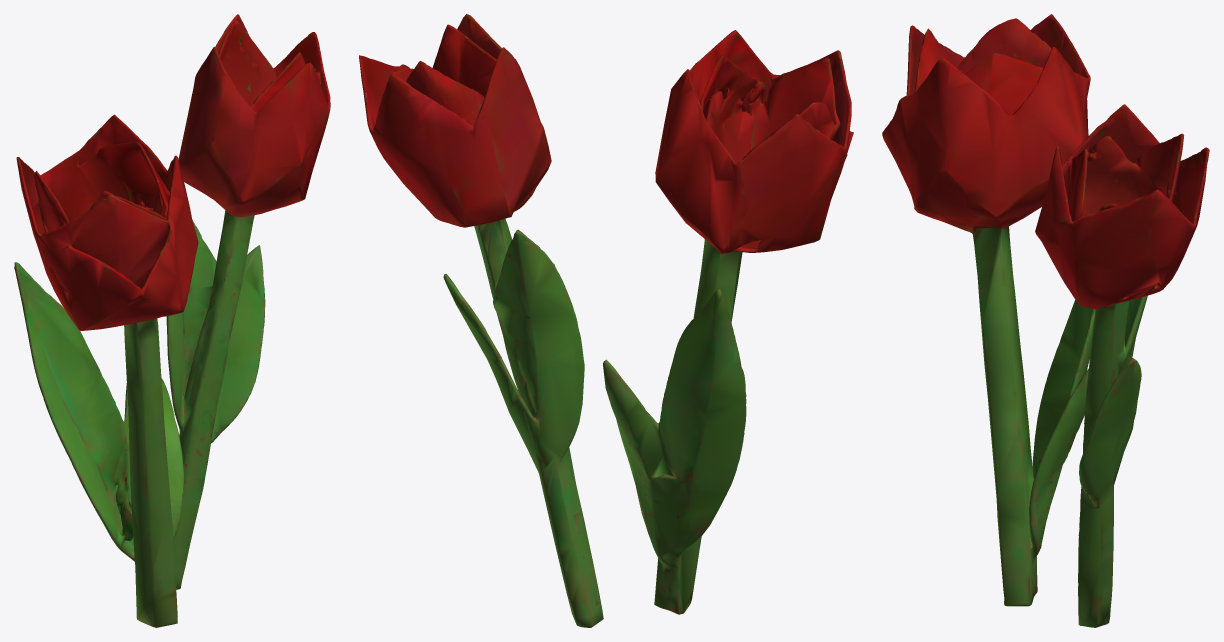
Rendered from tulip.glb.
The picture shows the model from 3 angles, left to right: view 1: azimuth 30°, elevation 25°; view 2: azimuth 150°, elevation 25°; view 3: azimuth 270°, elevation 25°; orthographic projection. The views are drawn at different scales.
Visible parts, largest first — view 1: geometry_0; view 2: geometry_0; view 3: geometry_0.
Part boxes in pixels (box(x1,y1,x2,y2)): geometry_0: box(14, 14, 330, 627); geometry_0: box(359, 14, 853, 627); geometry_0: box(882, 14, 1209, 627).
Bounding box in the file's own units: 0.7307 × 0.9999 × 0.5387.
Materials: 1 (1 with a texture image).
